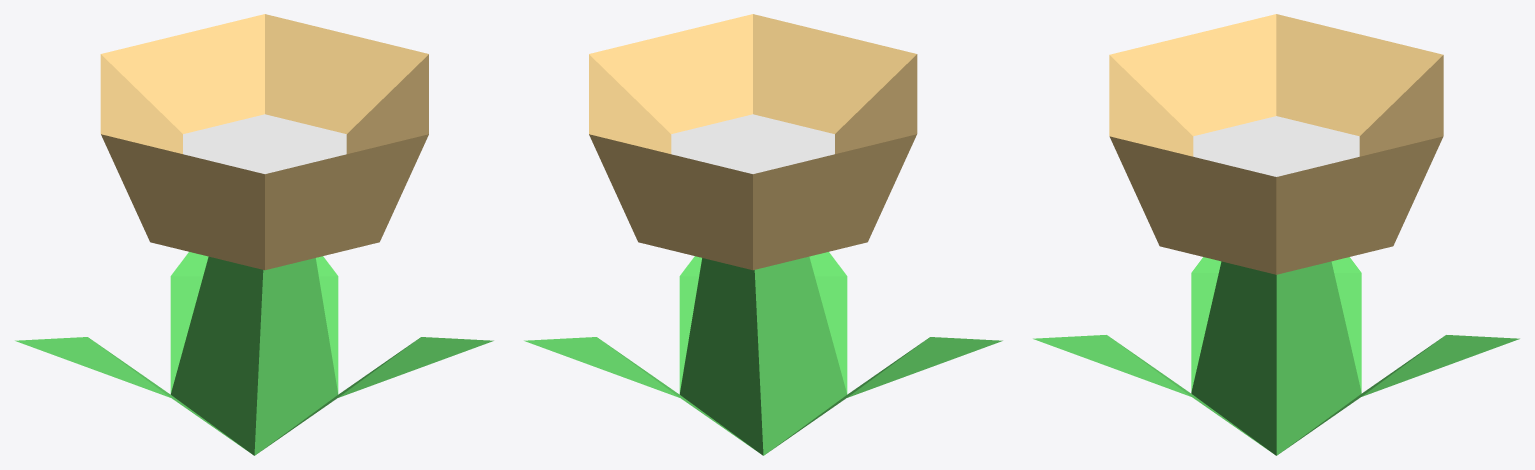
Rendered from n_flower_yellowC.glb.
3 renders of one model, left to right at view 1: azimuth 30°, elevation 25°; view 2: azimuth 150°, elevation 25°; view 3: azimuth 270°, elevation 25°, orthographic.
Visible parts, largest first — view 1: flower_yellowC; view 2: flower_yellowC; view 3: flower_yellowC.
Part boxes in pixels (x1,y1,x2,y2): flower_yellowC: [15, 14, 493, 455]; flower_yellowC: [524, 14, 1002, 455]; flower_yellowC: [1033, 14, 1519, 455].
Size of the model in its own units: 0.6133 by 0.45 by 0.6149.
